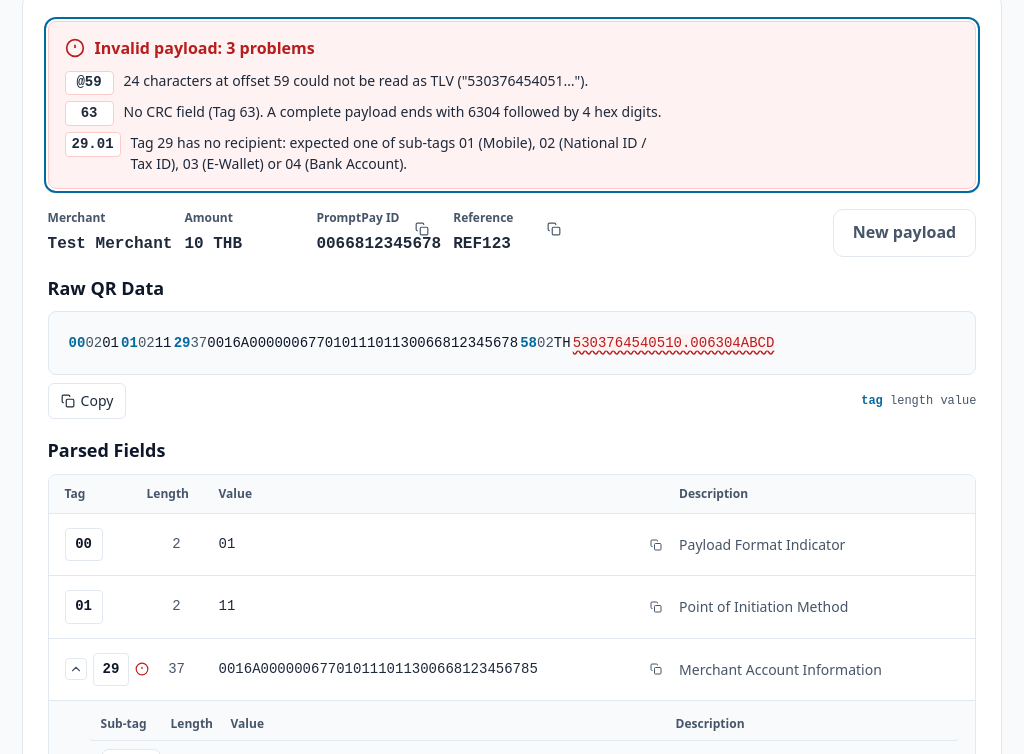
Scenario: QRDataDisplay Component › toggles field expansion when toggle button is clicked
# Find and click toggle button
Click the button named "Collapse sub-tags". click: coordinates (76, 669)
box: [65,658,87,680]
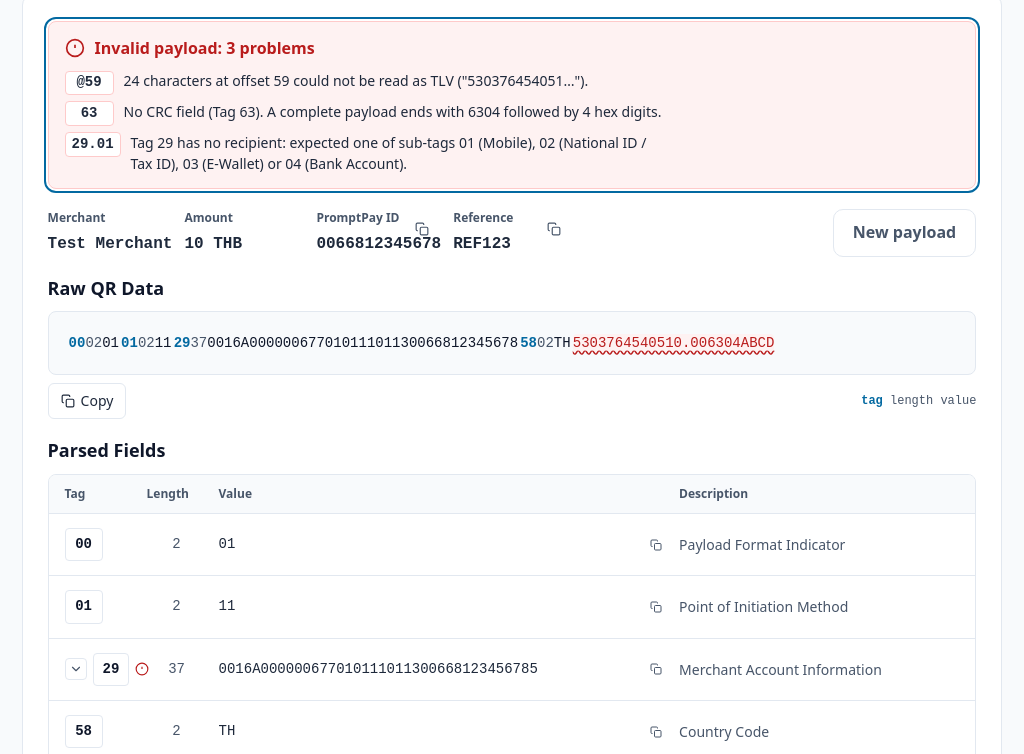
# Click again to expand
Click the button named "Expand sub-tags". click: coordinates (76, 669)
box: [65,658,87,680]
(page scrolled)
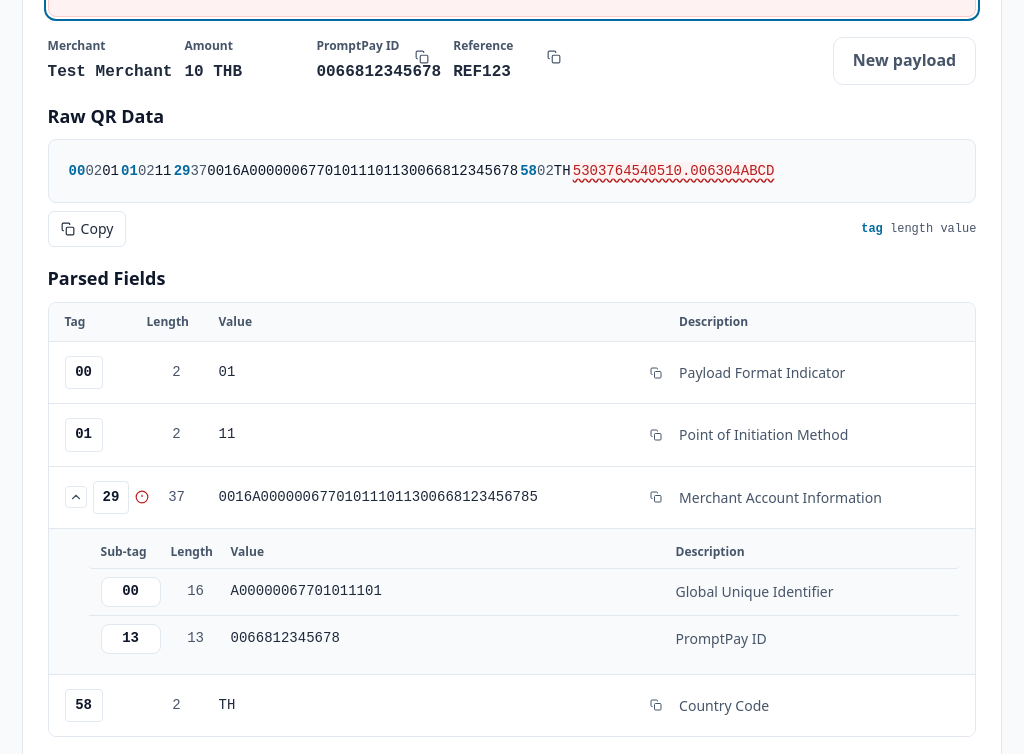
Check: the text "Global Unique Identifier" is shown, box [676,582,834,601]
